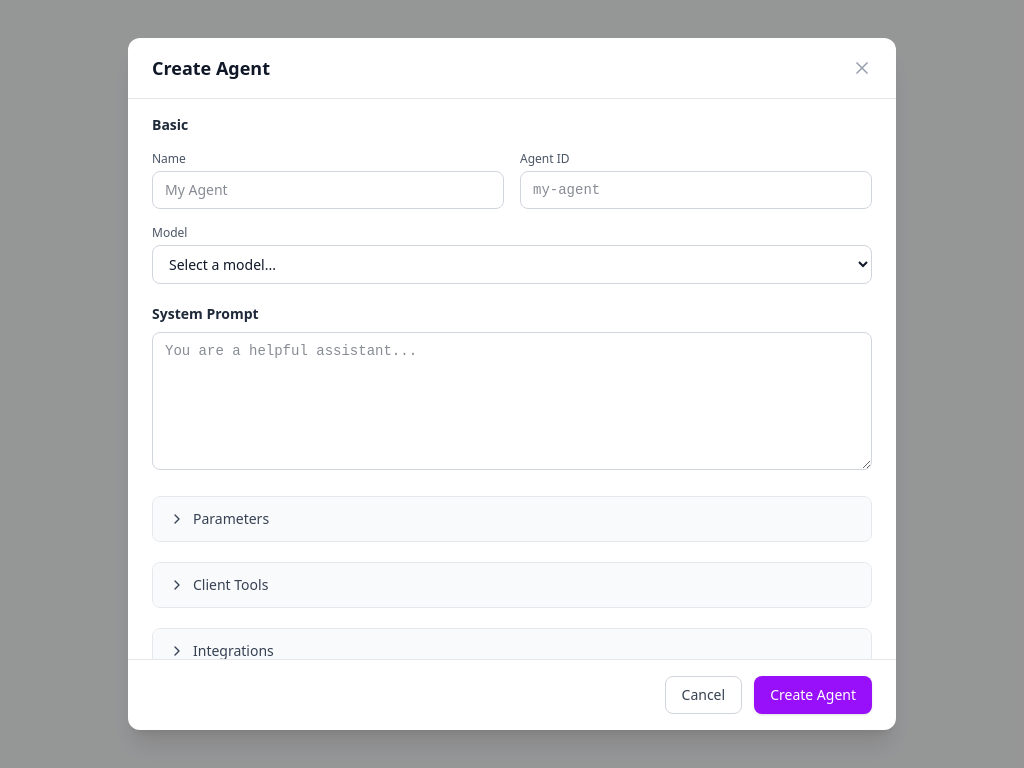
Test: AgentForm › auto-slugifies name to agent_id in create mode
The image size is (1024, 768).
In the field with placeholder "My Agent": (328, 190) [152, 171, 504, 209], type "My Cool Agent"
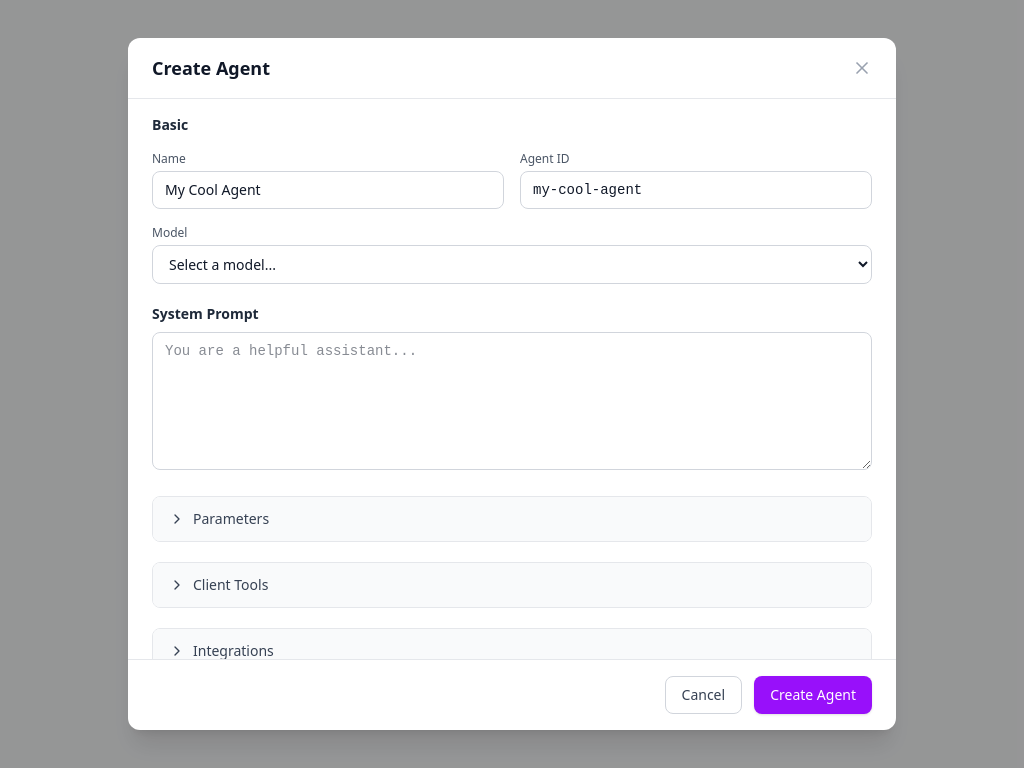
Result: the field showing "my-cool-agent" below "Agent ID" is shown at [520, 171, 872, 209]
